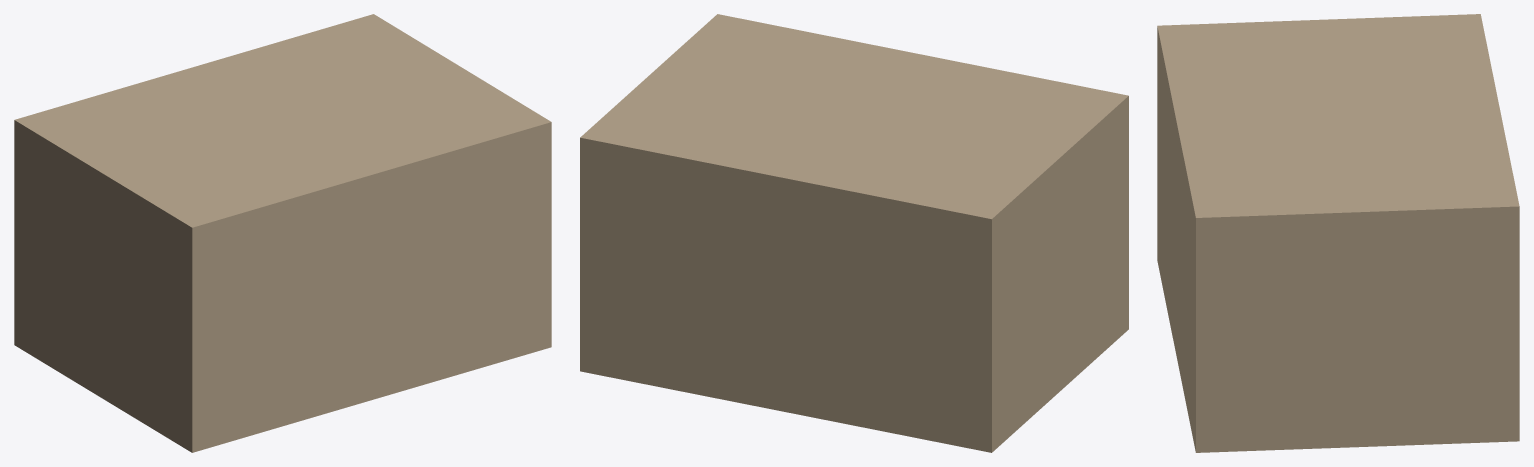
File: bld_108401203.dae
3 renders of one model, left to right at view 1: azimuth 30°, elevation 25°; view 2: azimuth 150°, elevation 25°; view 3: azimuth 270°, elevation 25°, orthographic. The views are drawn at different scales.
Parts seen in each view (by area): view 1: bld_108401203; view 2: bld_108401203; view 3: bld_108401203.
Boxes of the visible parts, x1,y1,x2,y2 form: bld_108401203: (14,14,551,452); bld_108401203: (580,14,1128,452); bld_108401203: (1157,14,1519,452).
Bounding box in the file's own units: 14.9 × 11.18 × 8.
